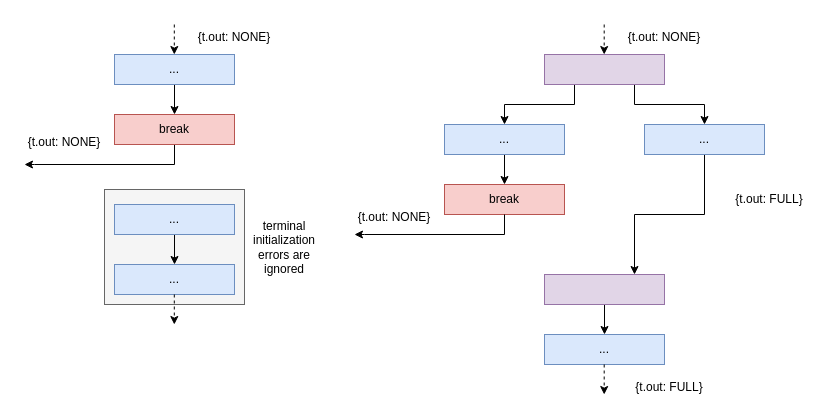
This 832x420 diagram has some shape labels left out. The shapes that lost their labels are listed below. From the top down, each one's centre as x and y in pixels, then its label:
At point 604,69: "if".
At point 604,289: "join_if".
